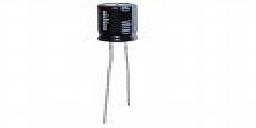Electrolytic Capacitor: (90, 1, 146, 128)
